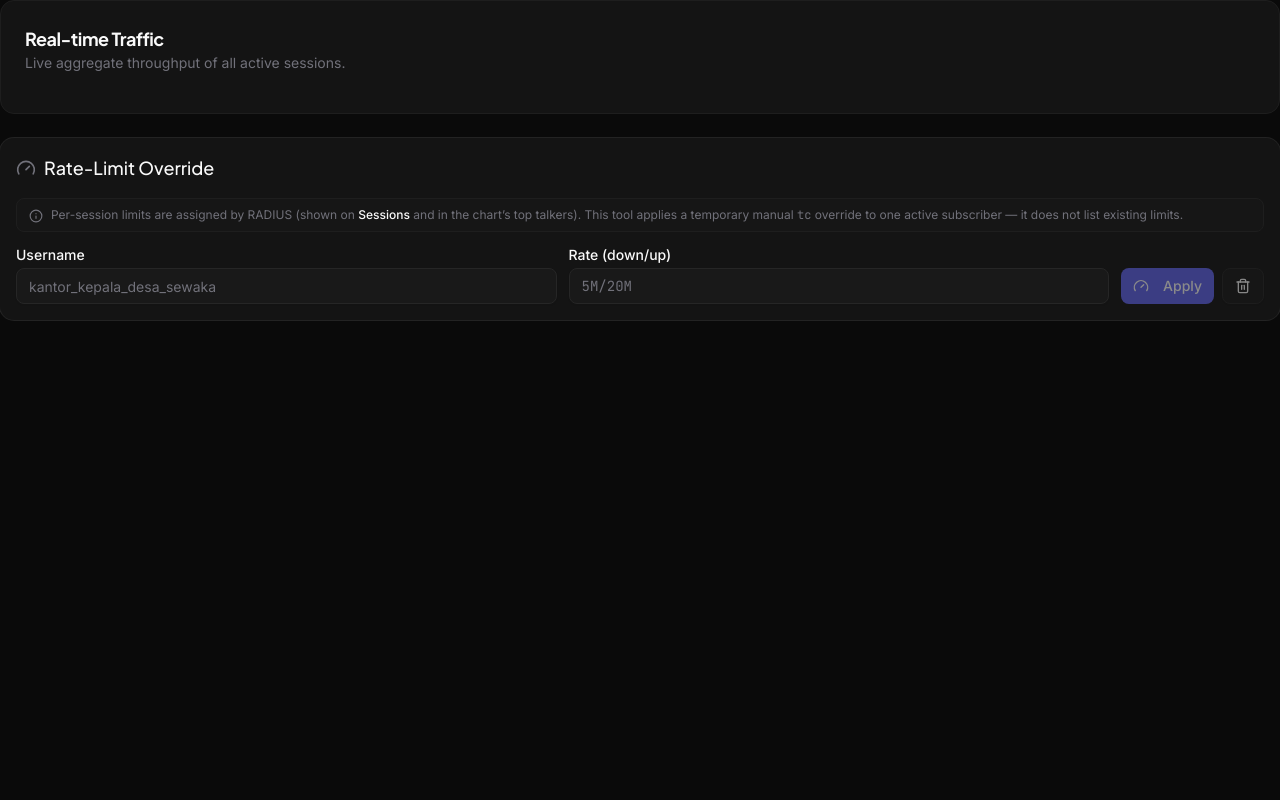
Test: TrafficPage › disables Apply/Clear until a username is entered
Expected: the button "Apply" is disabled, x1=1121 y1=268 x2=1214 y2=304
Type "bob" into the field labelled "Username" at (286, 286), box x1=16 y1=268 x2=556 y2=304
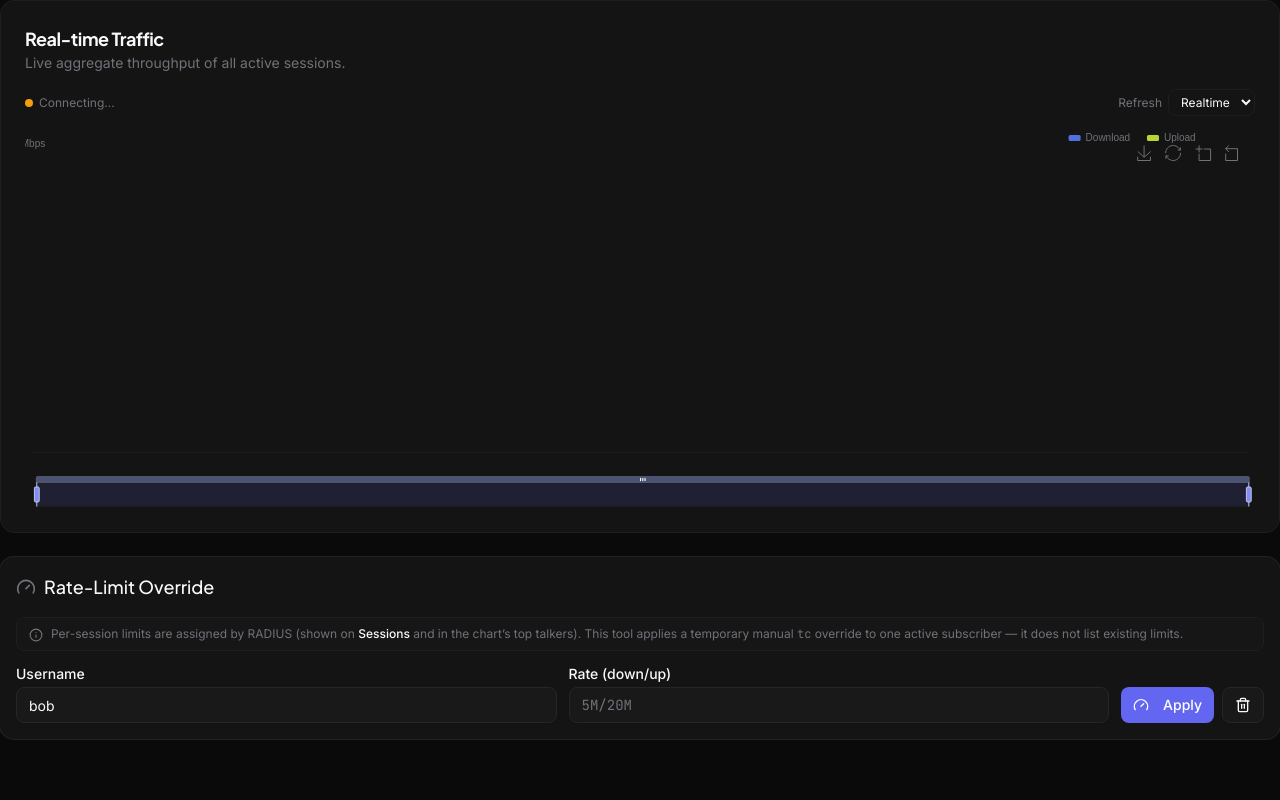
Expected: the button "Apply" is enabled, x1=1121 y1=687 x2=1214 y2=723
